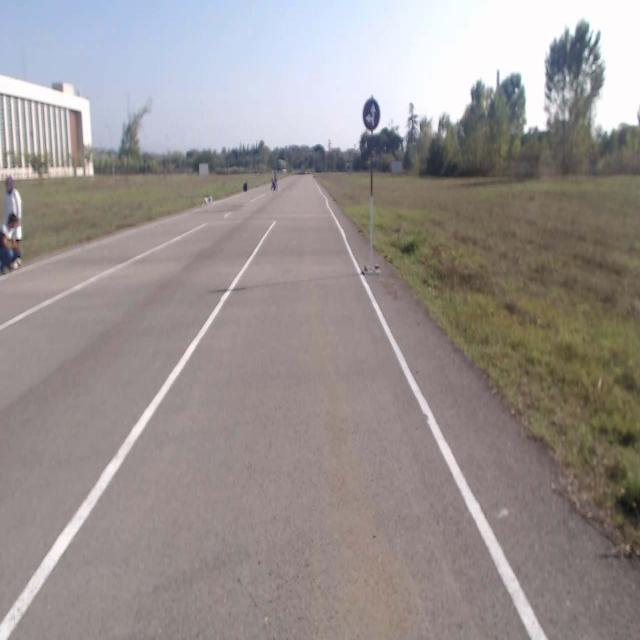ilerisol: (364, 98, 378, 130)
